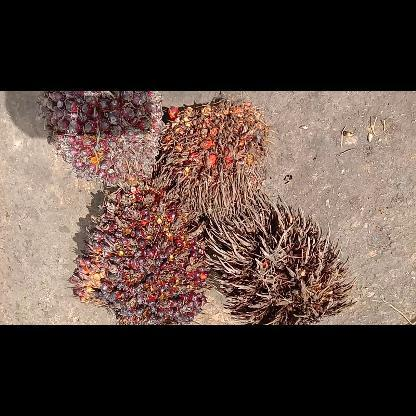Janjang kosong: (205, 188, 359, 324)
Kurang masak: (35, 90, 167, 188)
TBS masak: (70, 180, 212, 324)
Terlalu masak: (150, 96, 272, 216)
